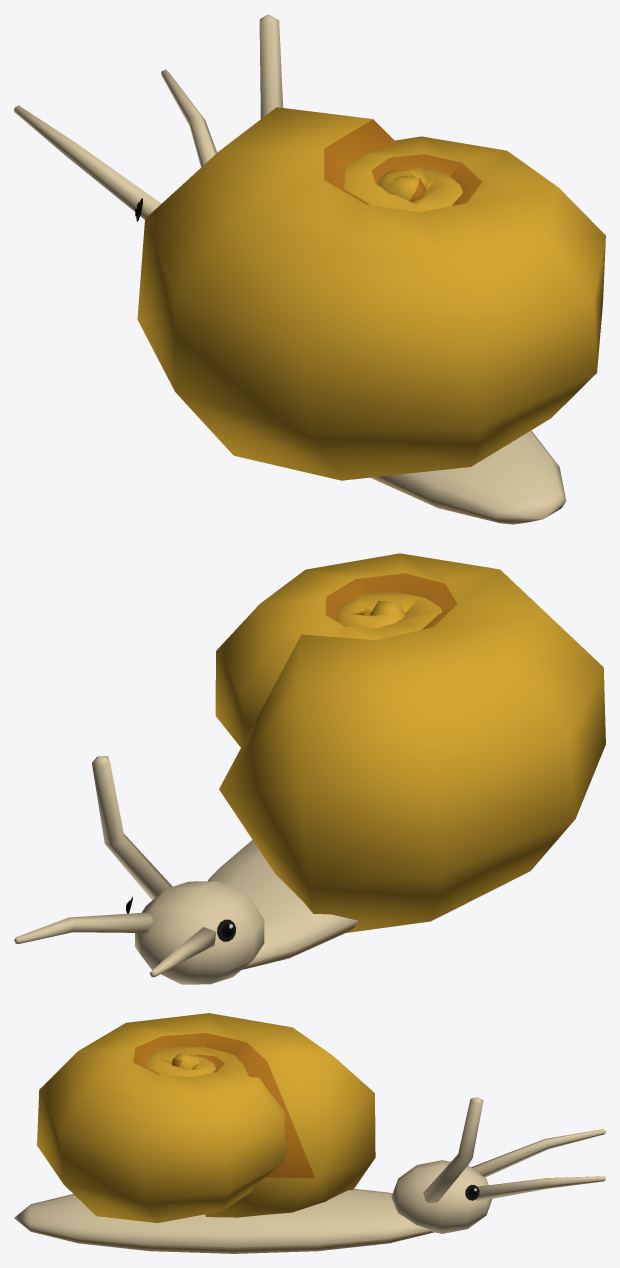
The model's file is mystery_snail.glb.
3 renders of one model, top to bottom at view 1: azimuth 30°, elevation 25°; view 2: azimuth 150°, elevation 25°; view 3: azimuth 270°, elevation 25°, orthographic. The views are drawn at different scales.
Visible parts, largest first — view 1: mystery_snail; view 2: mystery_snail; view 3: mystery_snail.
Boxes of the visible parts, x1,y1,x2,y2 form: mystery_snail: (14,14,605,524); mystery_snail: (14,553,605,984); mystery_snail: (14,1013,605,1253).
Size of the model in its own units: 1.24 by 0.9223 by 2.56.
